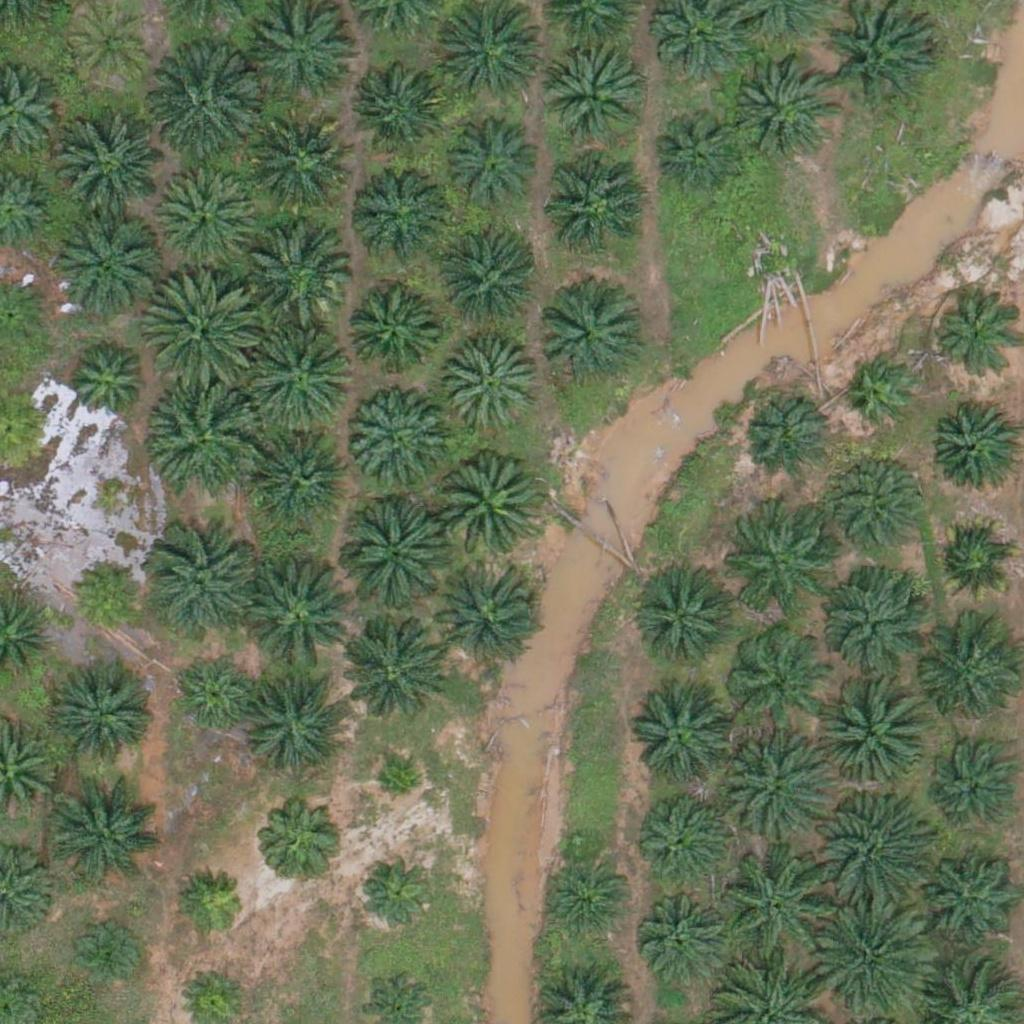Kelapa_Sawit: (819, 902, 932, 1015), (819, 791, 932, 904), (818, 673, 931, 786), (819, 558, 932, 671), (716, 733, 829, 846), (335, 498, 448, 611), (332, 615, 445, 728), (150, 379, 263, 492), (147, 527, 260, 640), (240, 215, 353, 328), (147, 48, 260, 161), (239, 557, 351, 671), (243, 316, 355, 430), (145, 268, 257, 382), (52, 776, 164, 889), (723, 847, 835, 960), (431, 450, 543, 563), (428, 558, 540, 671), (244, 667, 356, 780), (54, 114, 166, 227), (49, 207, 161, 320), (54, 661, 154, 762), (918, 855, 1018, 956), (720, 515, 820, 616), (726, 627, 826, 728), (632, 781, 732, 882), (632, 689, 732, 790), (638, 563, 738, 664), (535, 287, 635, 388), (442, 336, 542, 437), (340, 281, 440, 382), (347, 389, 447, 490), (729, 59, 829, 160), (538, 45, 638, 146), (156, 169, 256, 270), (827, 450, 927, 550), (635, 883, 735, 983), (440, 238, 540, 338), (254, 427, 354, 527), (544, 155, 644, 255), (440, 114, 540, 214), (352, 159, 452, 259), (349, 55, 449, 155), (255, 5, 355, 105), (247, 118, 347, 218), (171, 653, 259, 741), (742, 391, 830, 479), (256, 790, 344, 878), (66, 1, 154, 89), (933, 295, 1020, 383), (929, 400, 1016, 488), (354, 846, 441, 934), (929, 518, 1016, 606), (926, 739, 1013, 827), (541, 849, 628, 937), (61, 338, 148, 426), (655, 107, 742, 195), (68, 555, 143, 631), (71, 917, 146, 993), (845, 357, 920, 433), (176, 867, 251, 942), (373, 761, 423, 811)
